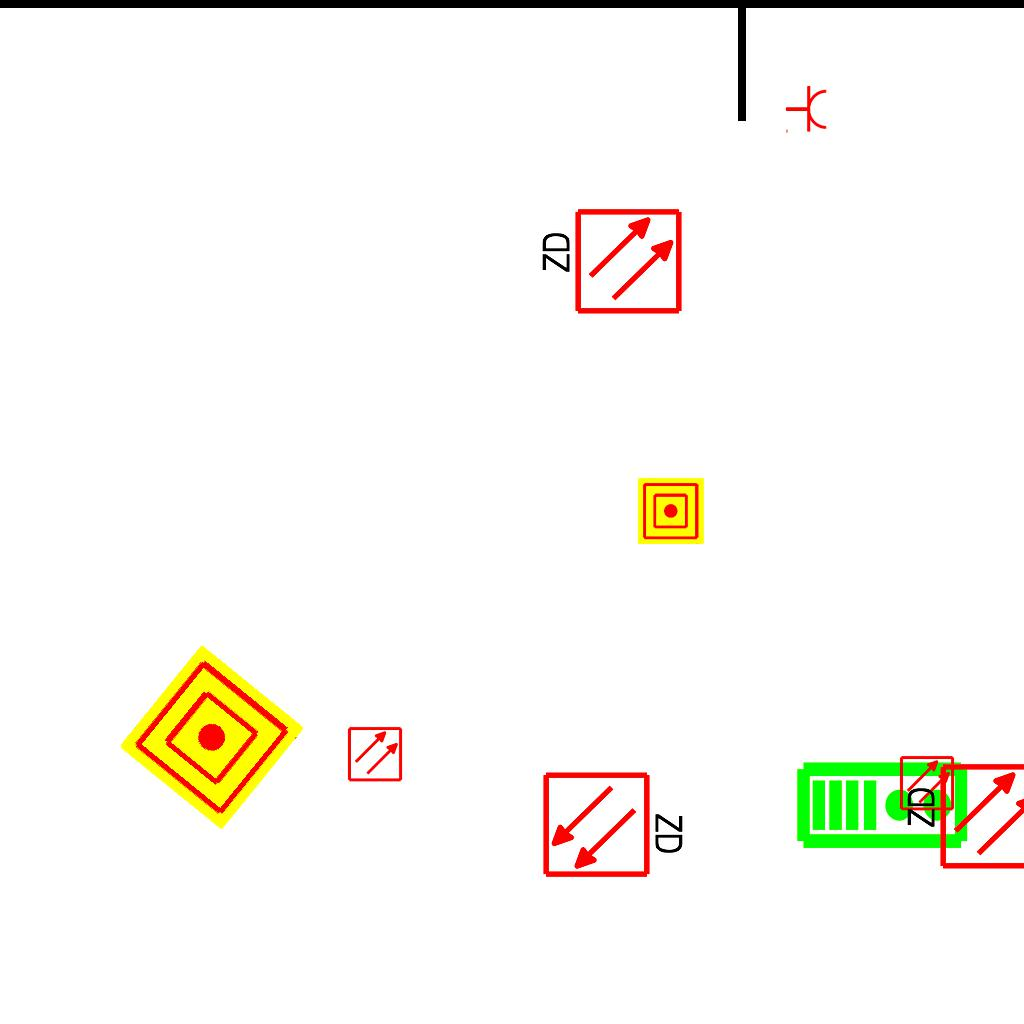Gegensprechanlage_mit_Video: (795, 756, 971, 851)
NAM-Nichtautomatischer_Melder: (119, 644, 305, 830), (638, 478, 704, 544)
RMO_Rauchmelder_optischer: (347, 726, 403, 782), (899, 755, 955, 811)
Schukosteckdose_einfach: (785, 85, 828, 135)
ZD_Melder_in_Zwischendecke_mit_Revisionsoeffnung_mind_40_x_40_cm: (541, 766, 690, 880), (535, 206, 684, 320), (900, 761, 1024, 875)
